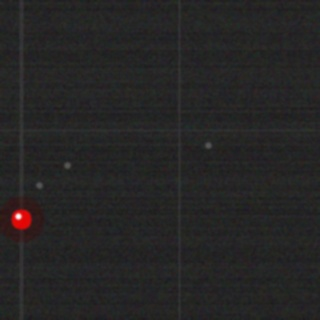red_fault: (9, 207, 33, 231)
